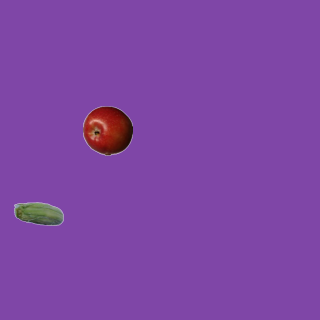Apple Braeburn: (82, 105, 132, 155)
Corn Husk: (13, 190, 63, 240)
